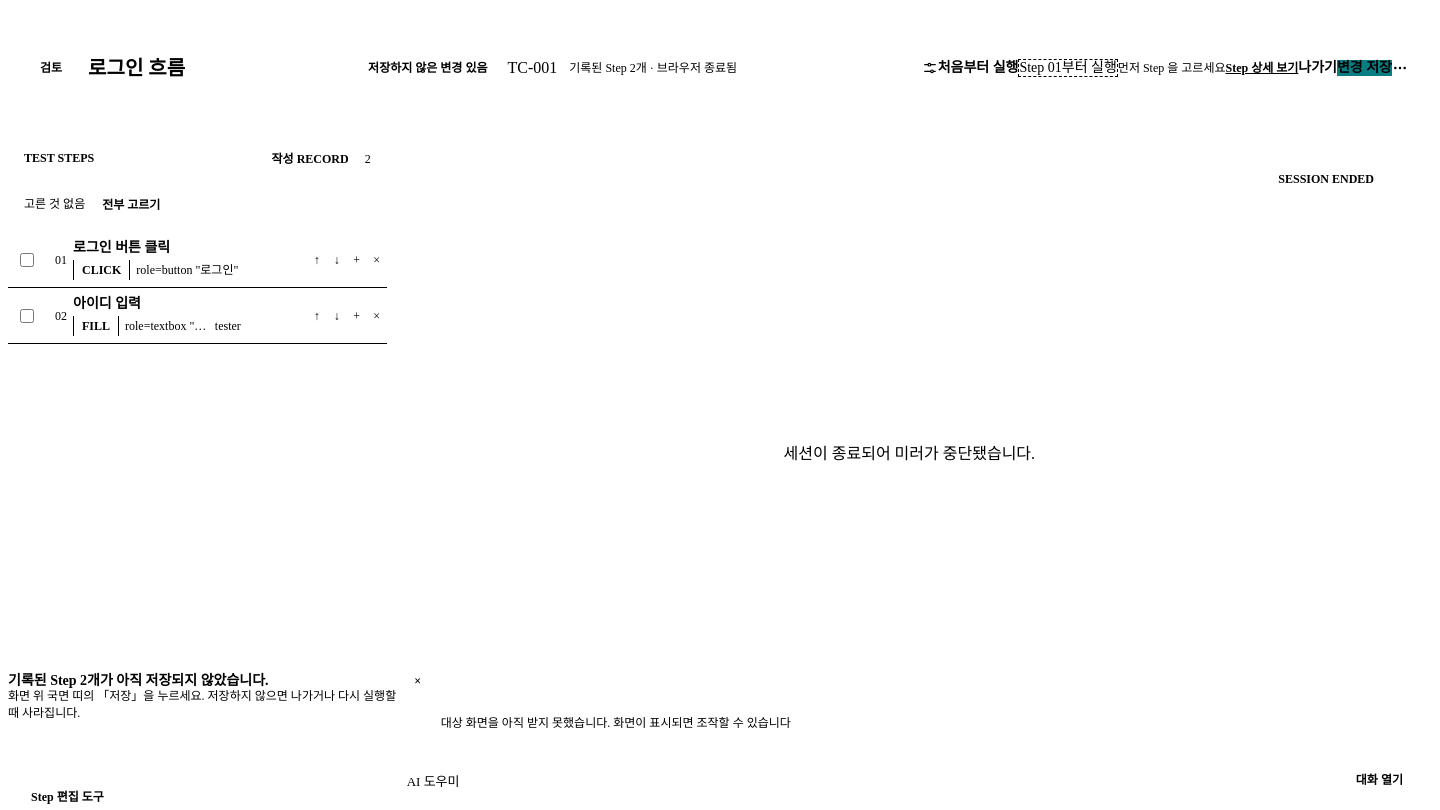
UC-011-5 — 확인 대화상자의 이름칸은 조건부다 › 이름이 있는 테스트: 나가기 확인에 이름칸이 없다
Click the button "나가기". click: coordinates (1318, 68)
box: [1298,60,1337,76]
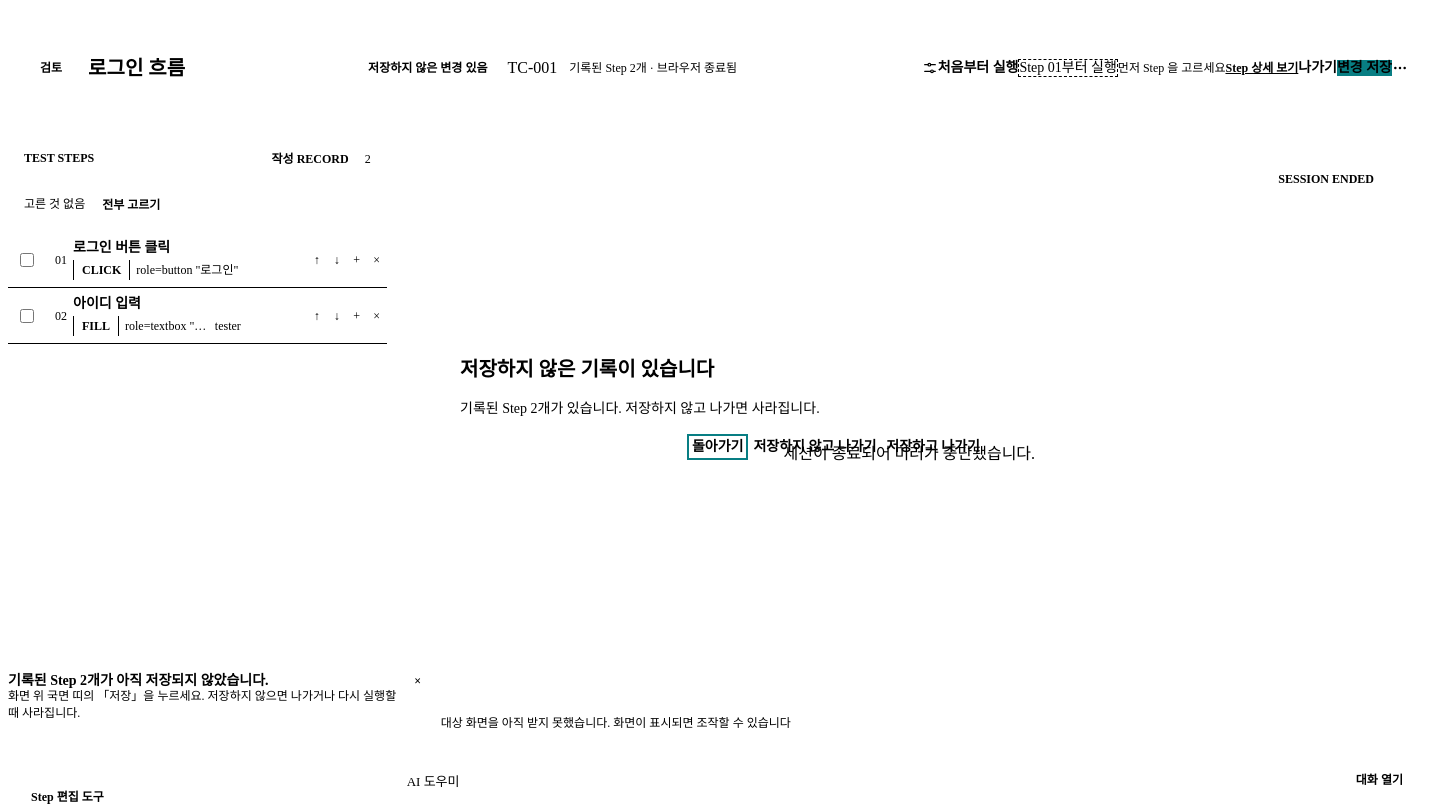
Result: the heading "저장하지 않은 기록이 있습니다" is shown at [460,358,714,380]
